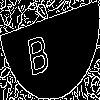B: (25, 25, 50, 77)
